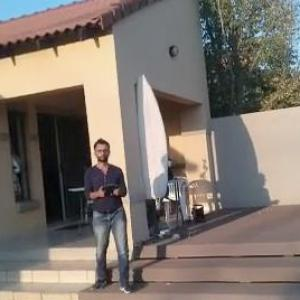follow: (83, 133, 138, 296)
